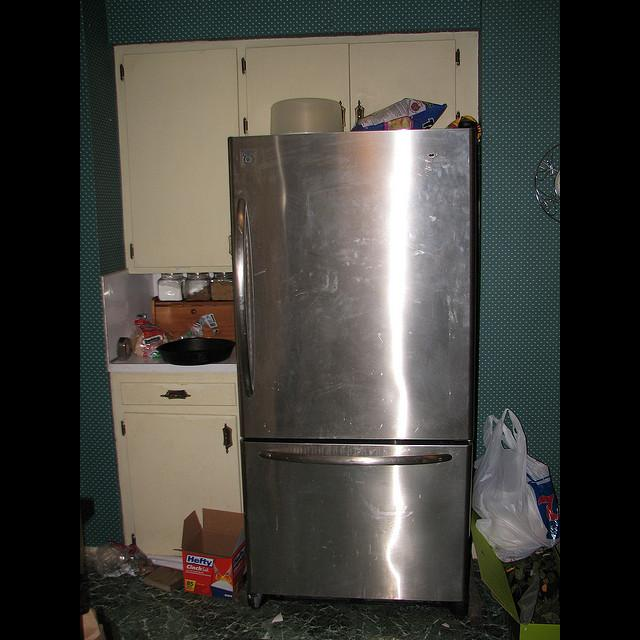Refrigerator: (232, 129, 468, 619)
